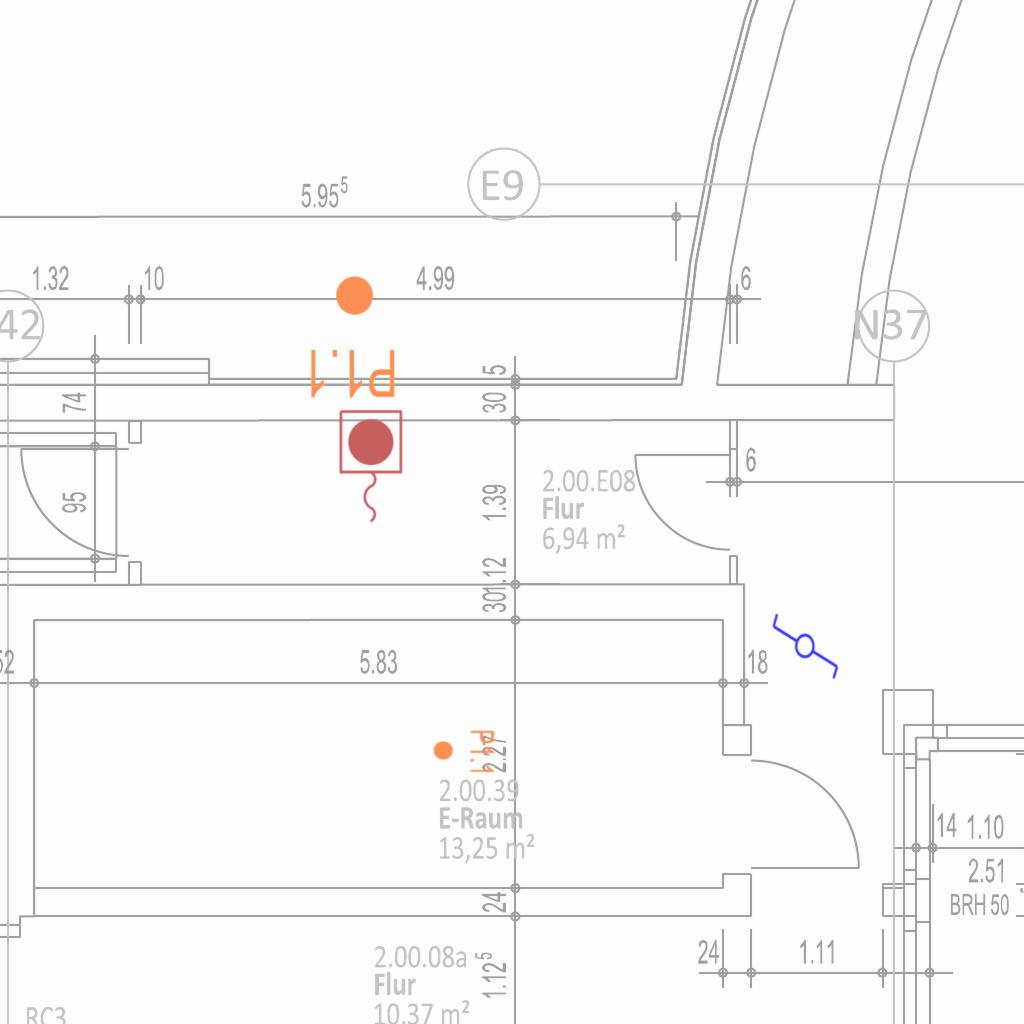Downlight_LED_Einbauleuchten_Flur: (305, 273, 398, 401), (432, 729, 496, 775)
Wechselschalter: (770, 603, 842, 681)
Zugtaster: (334, 406, 406, 528)
